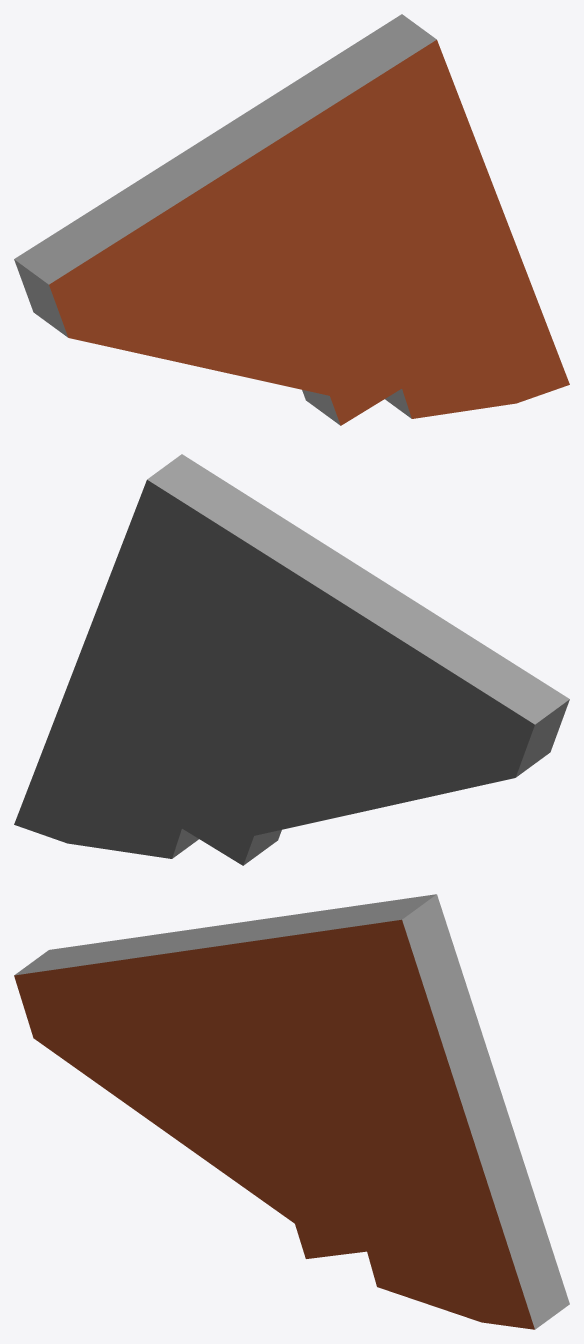
The model's file is construction_5975_assumed_A_Casa_h6m.obj.
3 views of the same model, one above another, from view 1: azimuth 30°, elevation 25°; view 2: azimuth 150°, elevation 25°; view 3: azimuth 330°, elevation 25° (orthographic).
Visible parts, largest first — view 1: construction_5975_assumed_A_Casa; view 2: construction_5975_assumed_A_Casa; view 3: construction_5975_assumed_A_Casa.
Part boxes in pixels (x1,y1,x2,y2): construction_5975_assumed_A_Casa: (14,14,569,425); construction_5975_assumed_A_Casa: (14,454,569,865); construction_5975_assumed_A_Casa: (14,894,569,1329).
Size of the model in its own units: 51.66 by 36.32 by 6.
